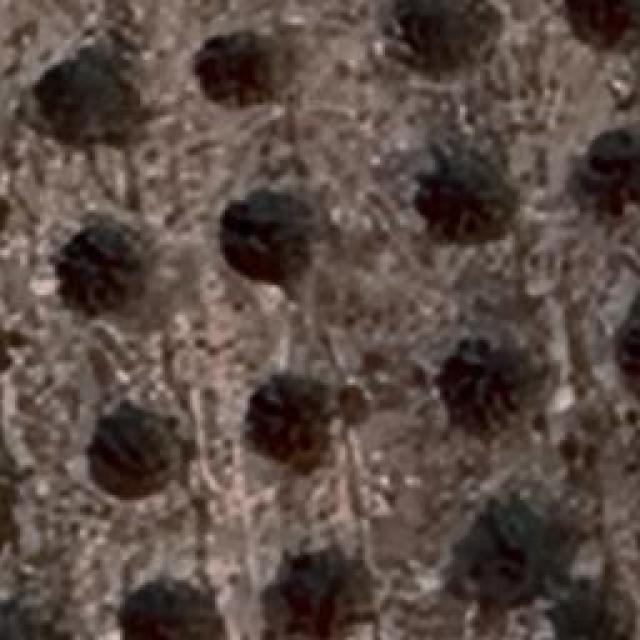PalmTree: (198, 16, 306, 119), (222, 175, 318, 285), (54, 54, 156, 144), (424, 151, 518, 239), (402, 0, 512, 75), (58, 208, 140, 306), (248, 547, 333, 640), (459, 346, 549, 432), (472, 498, 558, 582), (251, 378, 331, 452), (107, 415, 185, 480), (580, 134, 640, 218), (560, 585, 635, 640), (128, 595, 216, 640), (0, 594, 76, 639), (575, 0, 640, 45)
